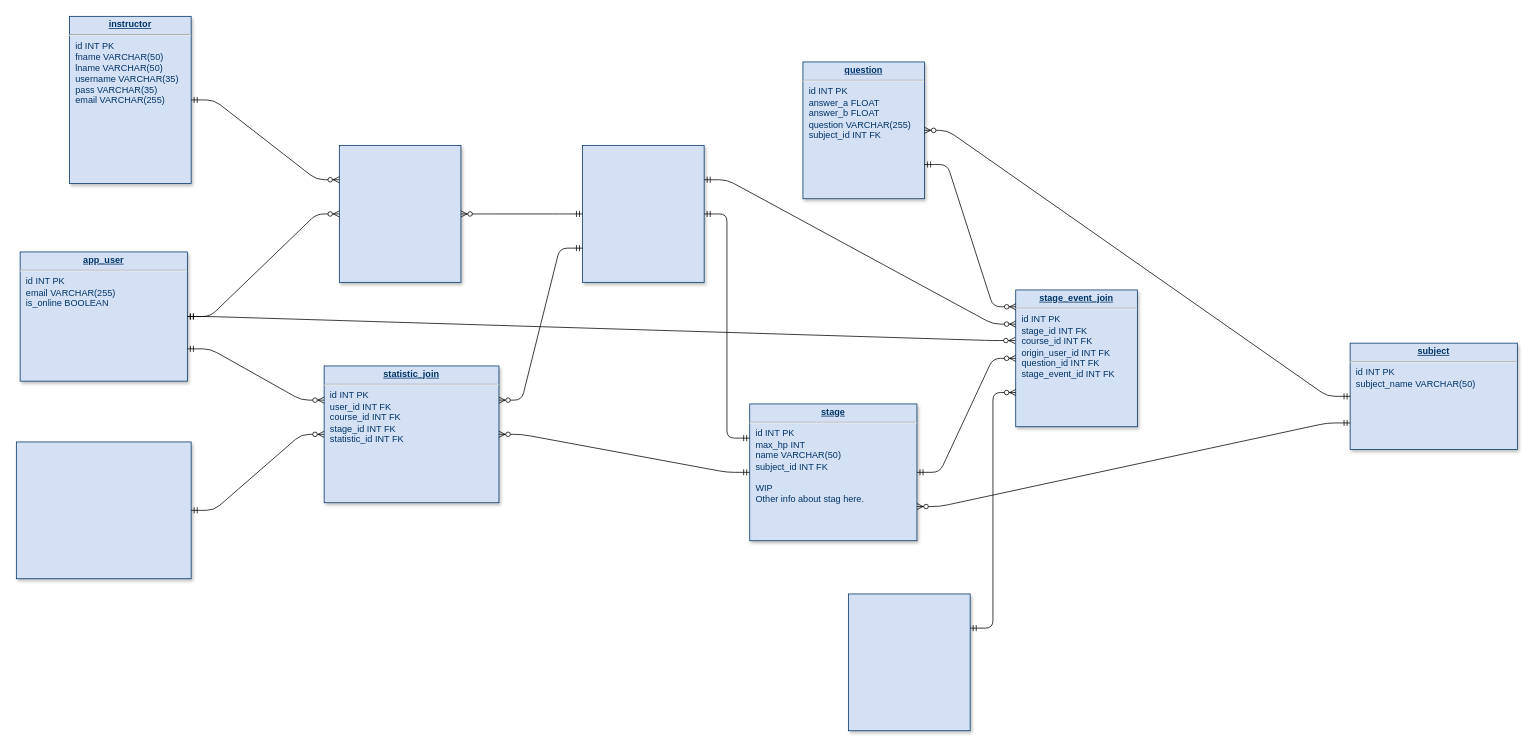
The diagram is 1535 pixels wide and 749 high, and some of its shapes have lost their labels. Each missing label, with the centre of its shape:
course id INT PK cname VARCHAR(30) code VARCHAR(9) N stage_id INT FK N: point 644,215
course_assignment id INT PK user_id INT N FK instructor_id FK course_id INT FK: point 401,215
stage_event id INT PK inflicted_hp N INT was_correct BOOLEAN event_time DATETIME: point 910,663
statistic id INT PK first_time_correct INT N total_retries INT N score FLOAT N: point 104,511
